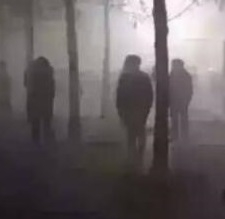person: (113, 52, 154, 166), (24, 56, 57, 146), (170, 56, 195, 139)
